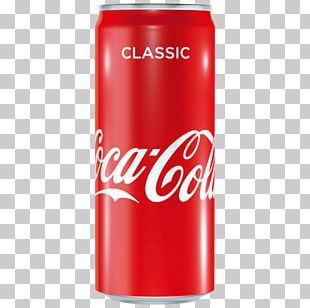coke: (93, 5, 215, 303)
